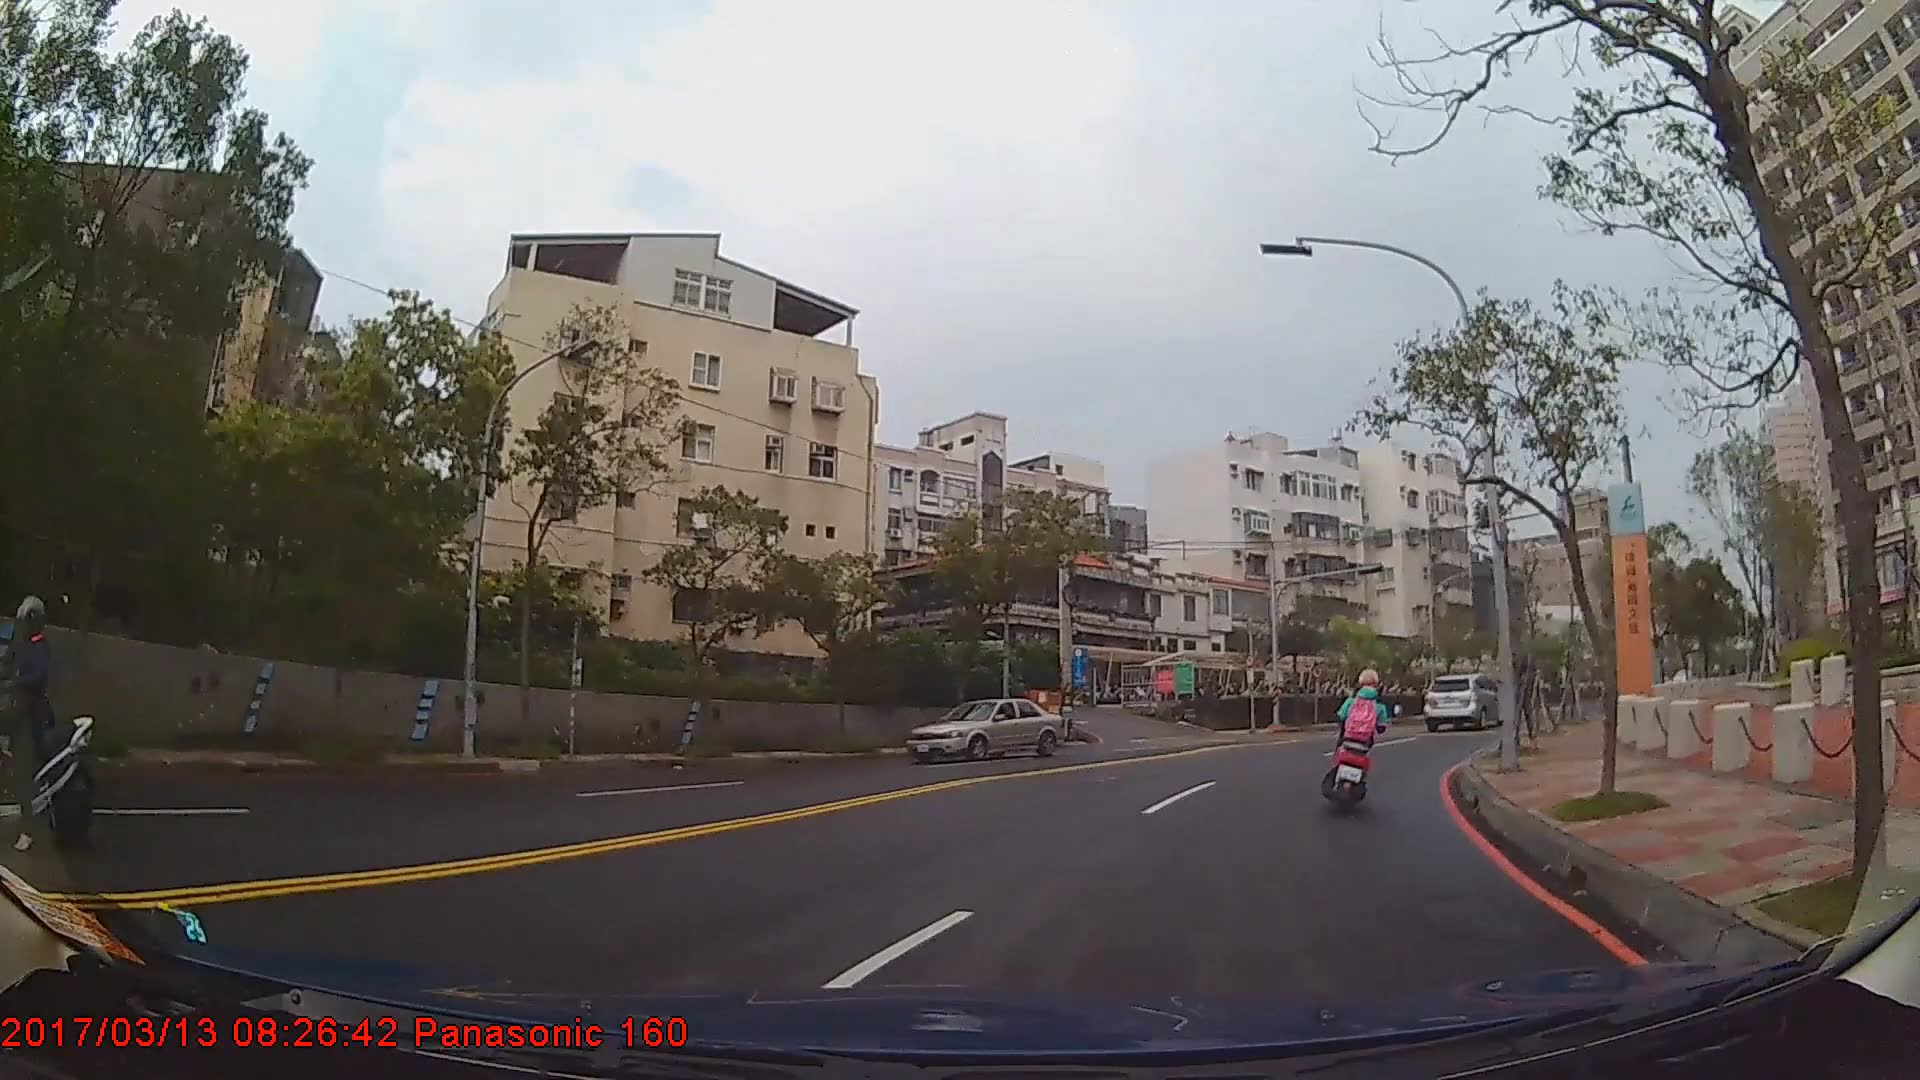rider: (1, 598, 102, 859), (1328, 669, 1391, 802)
vehicle: (904, 698, 1064, 762), (1422, 673, 1502, 733)
